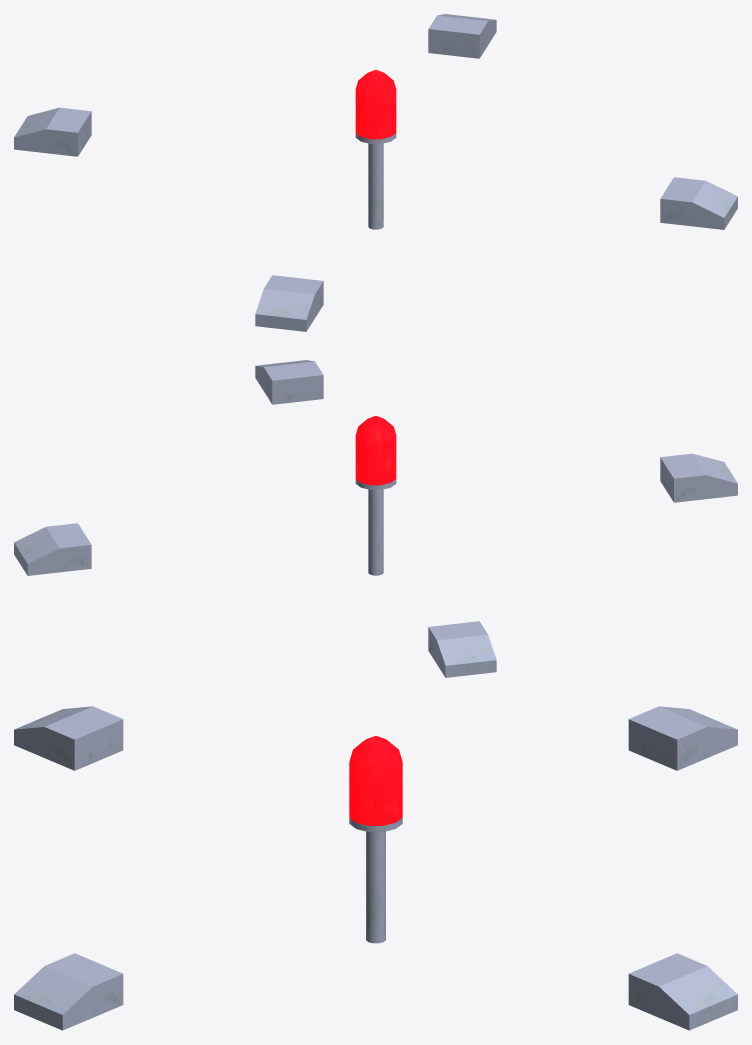
File: windsock-light-cbj_LOD00.gltf
3 renders of one model, top to bottom at view 1: azimuth 30°, elevation 25°; view 2: azimuth 150°, elevation 25°; view 3: azimuth 270°, elevation 25°, orthographic. The views are drawn at different scales.
Visible parts, largest first — view 1: lightpole; view 2: lightpole; view 3: lightpole.
Boxes of the visible parts, <box> form: lightpole: <box>14,14,737,331</box>; lightpole: <box>14,360,737,677</box>; lightpole: <box>14,706,737,1030</box>.
Size of what is drawn, in the model's own units: 2.53 by 0.7833 by 2.53.
